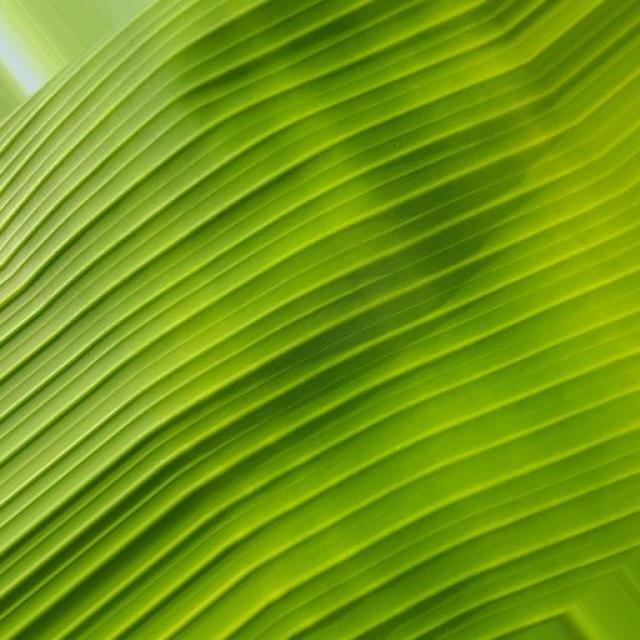Black_leaf_spot: (4, 14, 630, 628)
